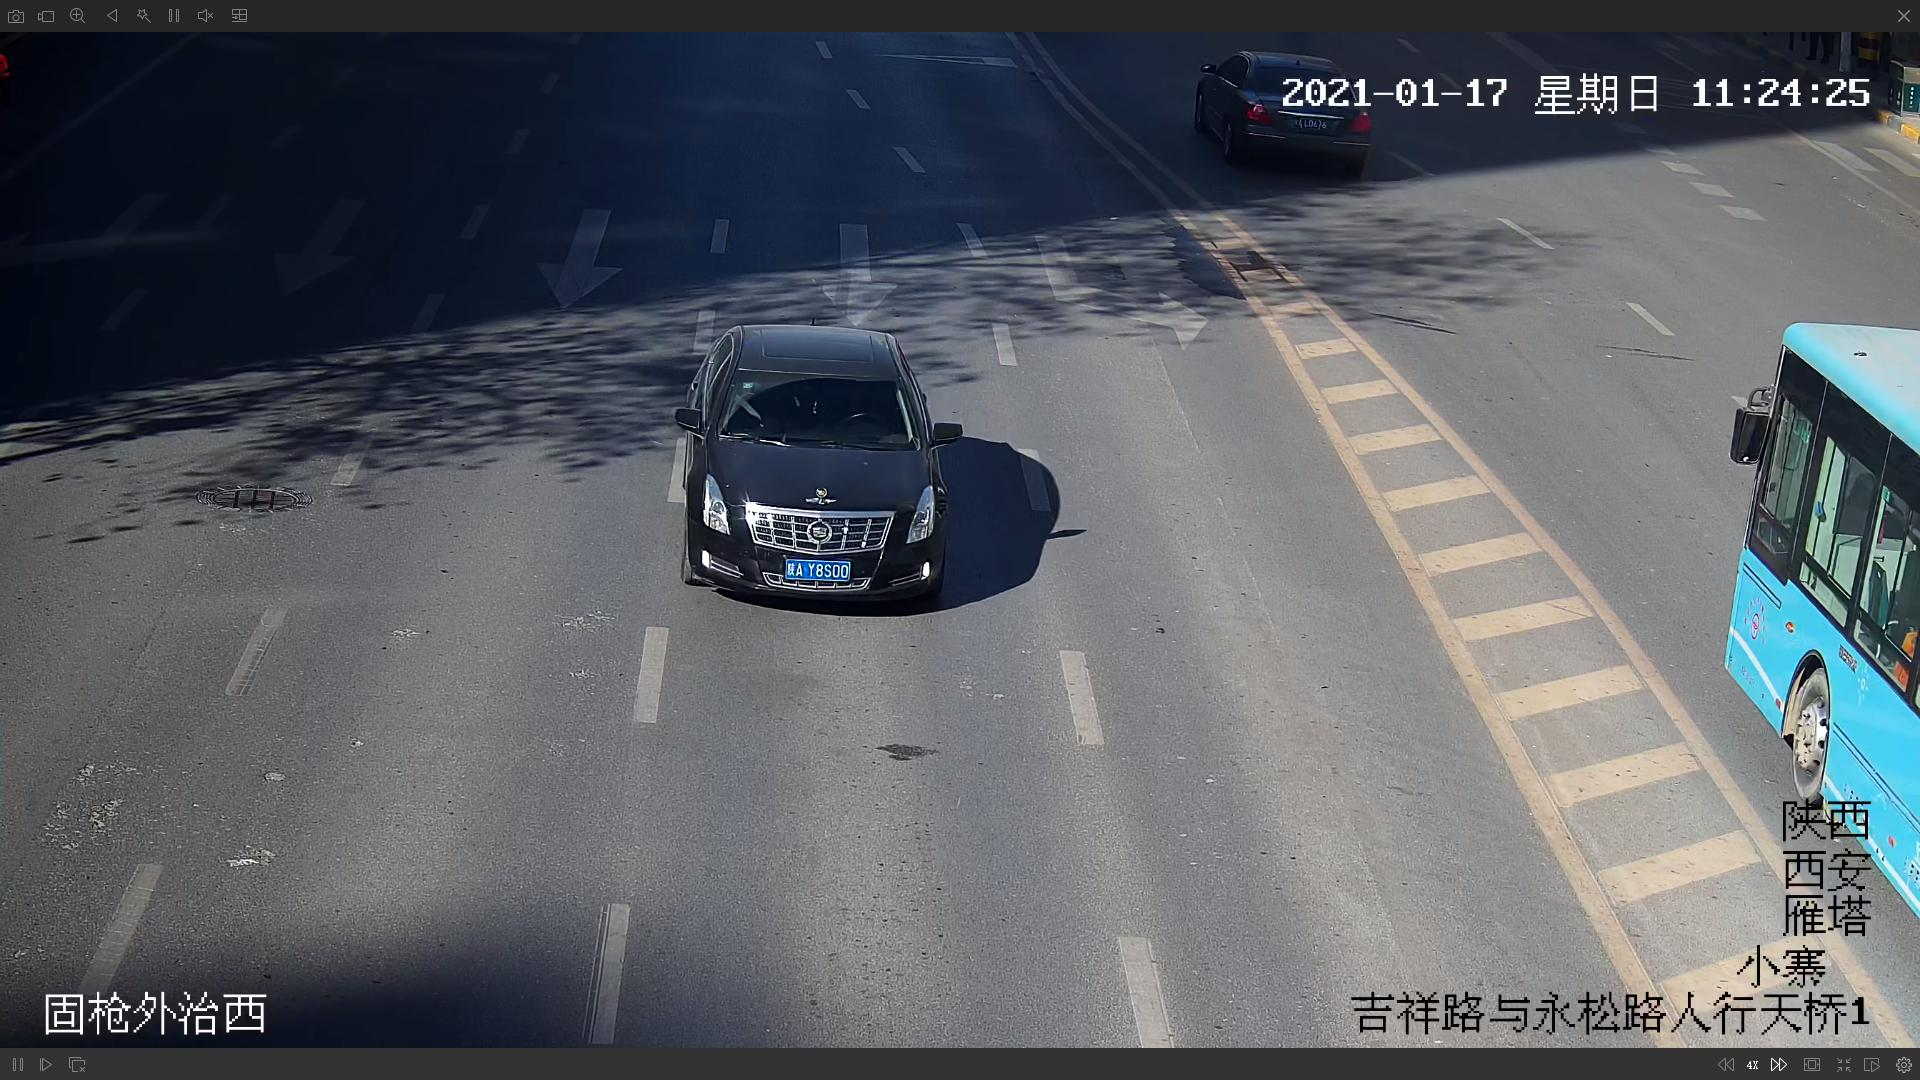black: (670, 328, 952, 605)
